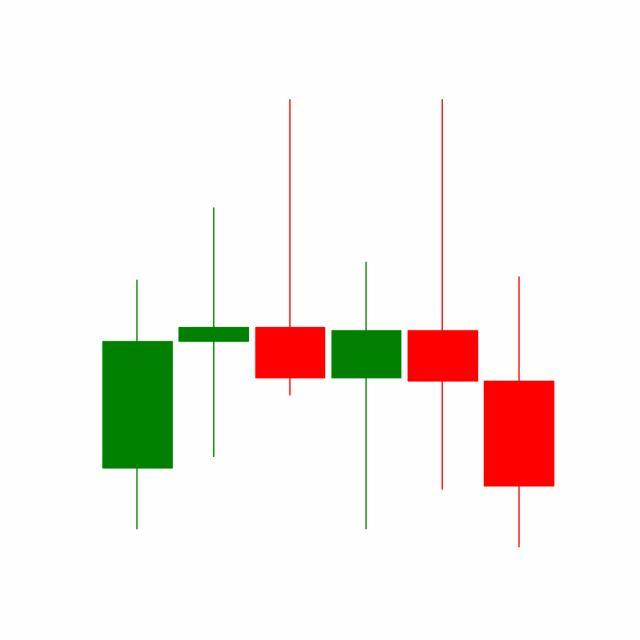Spinning Top: (404, 96, 482, 495)
